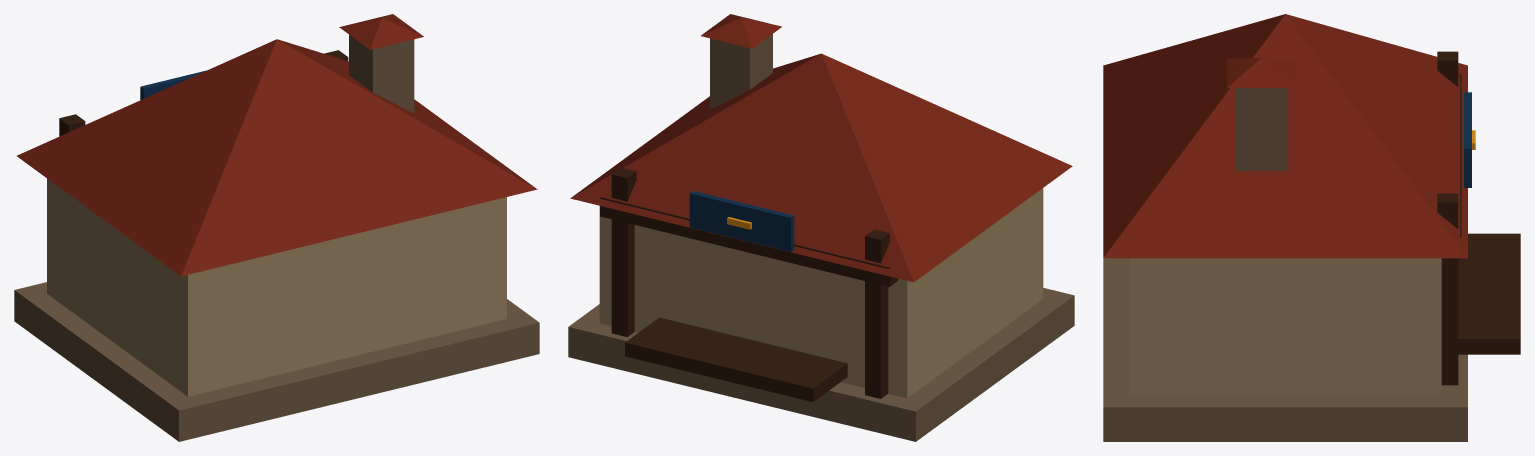
The model's file is ResourceDropoff_authoring.obj.
3 renders of one model, left to right at view 1: azimuth 30°, elevation 25°; view 2: azimuth 150°, elevation 25°; view 3: azimuth 270°, elevation 25°, orthographic. The views are drawn at different scales.
Parts seen in each view (by area): view 1: Roof, StorehouseWalls, Foundation, Chimney, ChimneyCap, TimberPost, Sign; view 2: Roof, StorehouseWalls, Foundation, LoadingPlatform, TimberPost, Sign, TimberBeam, Chimney, ChimneyCap; view 3: Roof, StorehouseWalls, Foundation, LoadingPlatform, Chimney, TimberPost, ChimneyCap, Sign.
Part boxes in pixels (x1,y1,x2,y2): Roof: (17, 39, 537, 276); StorehouseWalls: (47, 178, 506, 396); Foundation: (14, 282, 539, 441); Chimney: (349, 35, 414, 113); ChimneyCap: (339, 14, 423, 49); TimberPost: (59, 50, 348, 136); Sign: (140, 70, 206, 99); Roof: (570, 53, 1072, 282); StorehouseWalls: (599, 188, 1043, 398); Foundation: (568, 288, 1074, 441); LoadingPlatform: (625, 317, 847, 401); TimberPost: (611, 167, 889, 398); Sign: (689, 191, 794, 251); TimberBeam: (600, 197, 898, 286); Chimney: (710, 34, 772, 109); ChimneyCap: (701, 14, 781, 48); Roof: (1103, 14, 1467, 258); StorehouseWalls: (1129, 258, 1441, 395); Foundation: (1103, 258, 1467, 441); LoadingPlatform: (1458, 233, 1520, 354); Chimney: (1235, 88, 1287, 170); TimberPost: (1437, 51, 1458, 385); ChimneyCap: (1227, 57, 1295, 87); Sign: (1464, 92, 1471, 187).
Size of the model in its own units: 4.8 by 3.88 by 4.35.
